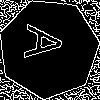A: (24, 24, 73, 63)
